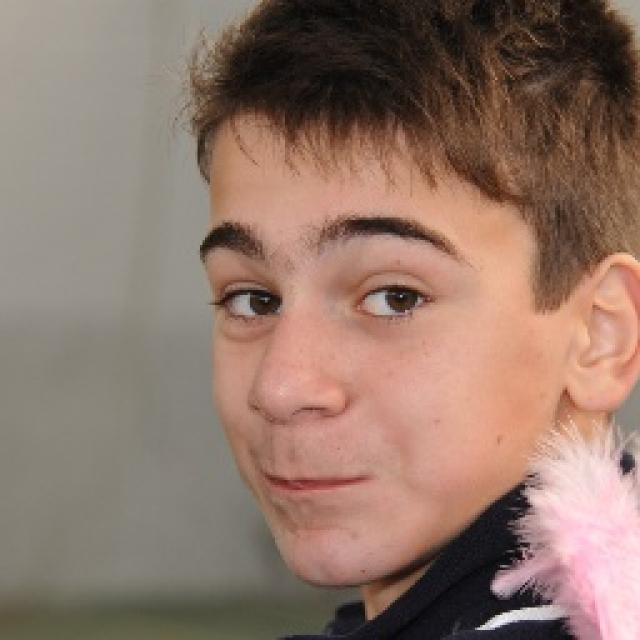earlobe: (564, 358, 638, 412)
eye: (356, 285, 431, 319), (220, 286, 282, 324)
nose: (249, 407, 351, 474)
wholeear: (565, 251, 638, 412)
